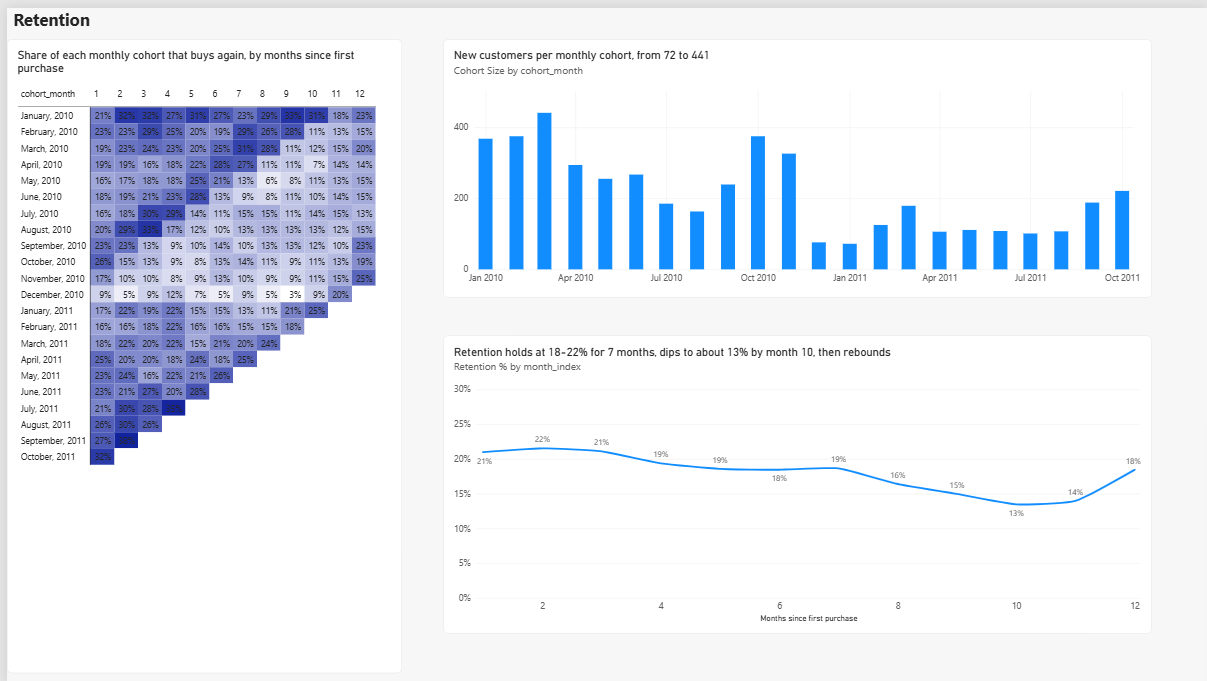

This screenshot's page, from the dashboard's own definition file:
{"tool":"powerbi","page":{"name":"Retention","canvas":[1920,1080],"ordinal":2},"visuals":[{"type":"textbox","box":[10,0,436.7,63.3],"z":0},{"type":"pivotTable","title":"Share of each monthly cohort that buys again, by months since first purchase","fields":{"Columns":["cohort_retention.month_index"],"Rows":["cohort_retention.cohort_month"],"Values":["cohort_retention.Retention %"]},"box":[0,50,632,1014],"z":1},{"type":"lineChart","title":"Retention holds at 18-22% for 7 months, dips to about 13% by month 10, then rebounds","fields":{"Category":["cohort_retention.month_index"],"Y":["cohort_retention.Retention %"]},"box":[698,524,1133.3,476.7],"z":2},{"type":"clusteredColumnChart","title":"New customers per monthly cohort, from 72 to 441","fields":{"Category":["cohort_retention.cohort_month"],"Y":["cohort_retention.Cohort Size"]},"box":[698,50,1133.3,413.3],"z":3}]}

Visuals, with their boxes in screenshot pixels (x1, y1, x2, y2), scaled from the page's 1920x1080 canvas onto the 1207x681 screenshot:
textbox: [6,0,281,40]
"Share of each monthly cohort that buys again, by months since first purchase" pivotTable: [0,32,397,671]
"Retention holds at 18-22% for 7 months, dips to about 13% by month 10, then rebounds" lineChart: [439,330,1151,631]
"New customers per monthly cohort, from 72 to 441" clusteredColumnChart: [439,32,1151,292]
